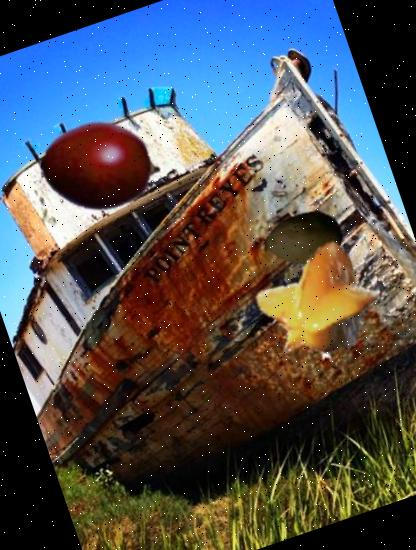Carambula: (240, 225, 400, 384)
Papaya: (258, 189, 353, 284)
Tamarillo: (25, 89, 178, 242)
